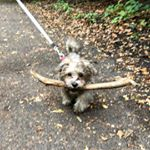puppy: (55, 33, 99, 116)
